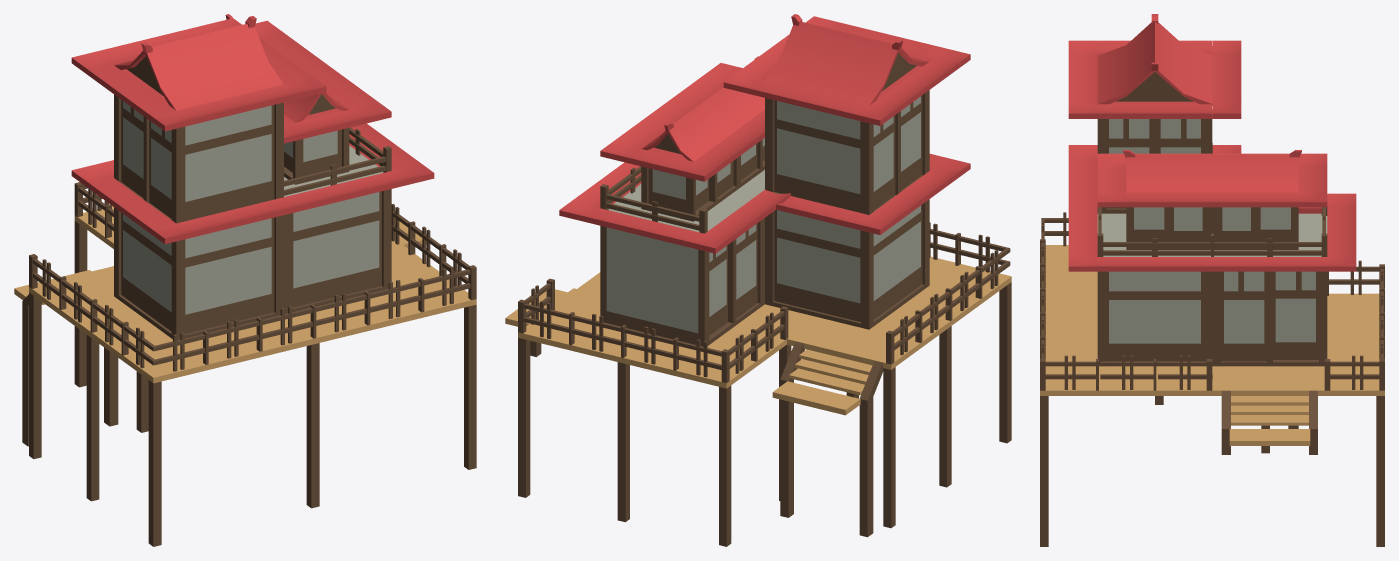
Rendered from HouseBig.fbx.
3 views of the same model, side by side, from view 1: azimuth 30°, elevation 25°; view 2: azimuth 150°, elevation 25°; view 3: azimuth 270°, elevation 25° (orthographic). The views are drawn at different scales.
Parts seen in each view (by area): view 1: HouseBig; view 2: HouseBig; view 3: HouseBig.
Part boxes in pixels (x1,y1,x2,y2): HouseBig: (14,14,476,546); HouseBig: (505,14,1011,546); HouseBig: (1040,14,1384,546).
Bounding box in the file's own units: 700 × 788 × 600.
